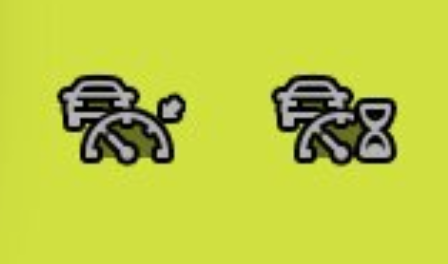ACC_AKTIV: (44, 69, 197, 172)
ACC_WAITING: (265, 64, 407, 180)
